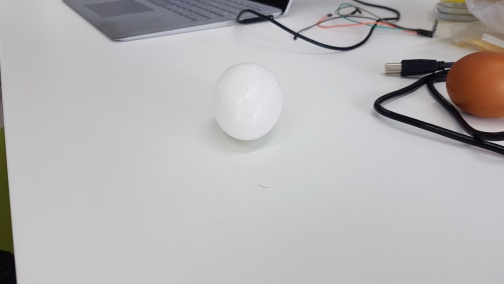egg: (210, 61, 284, 144), (446, 50, 504, 120)
